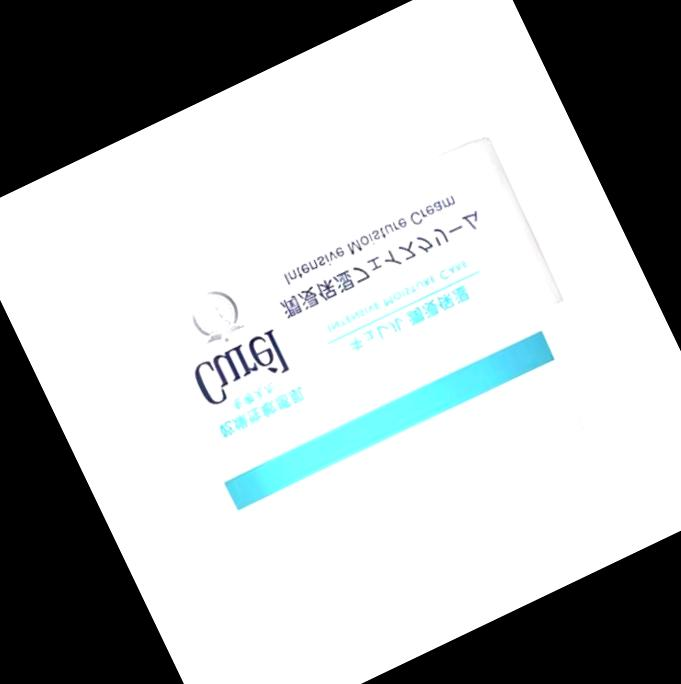cosmetic: (97, 131, 625, 603)
